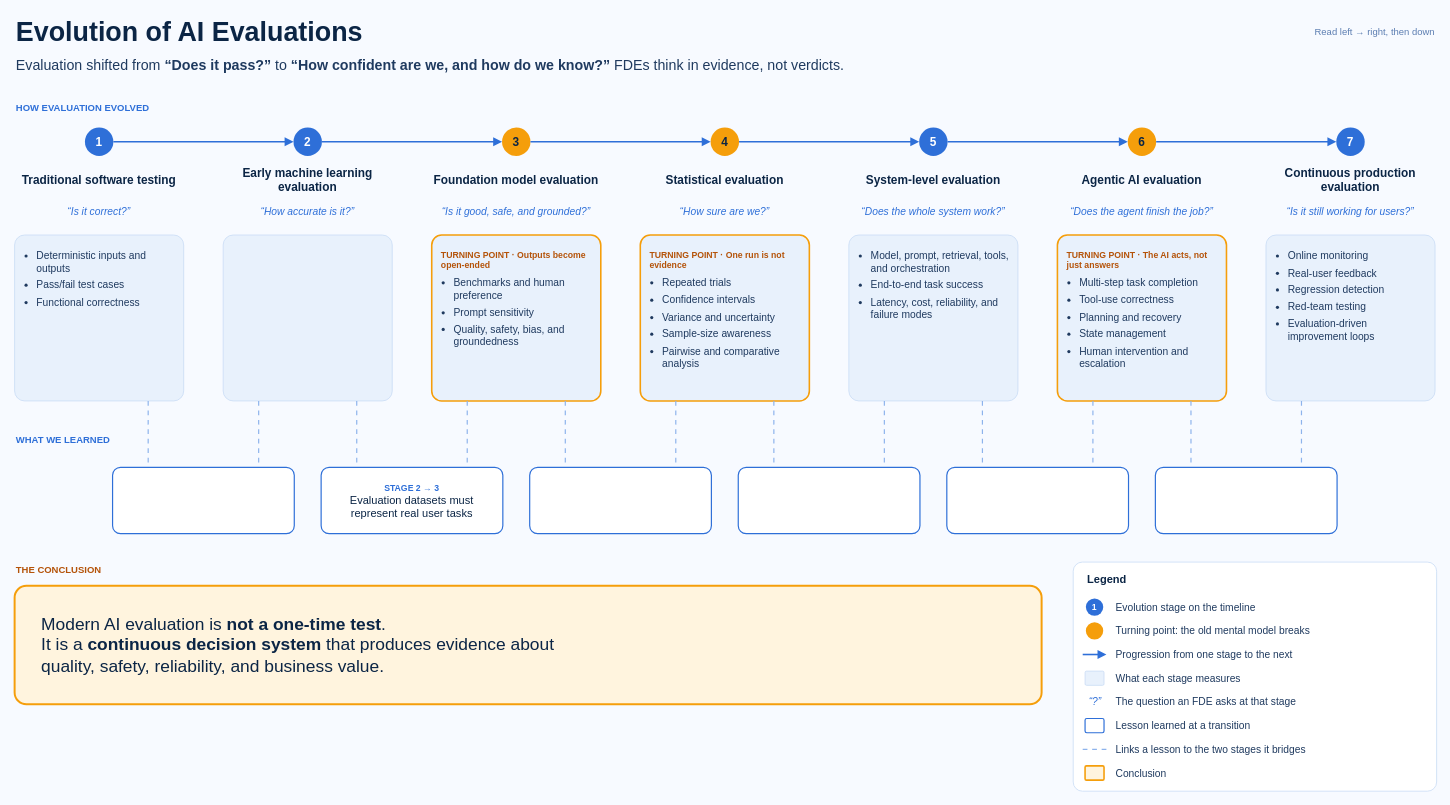
Image size: 1450x805. Some labels were removed from this diagram. The centre of each missing label's shape, as x and y in pixels:
Accuracy, precision, recall, and F1 Fixed test datasets Offline model comparison: the point at 307,317
STAGE 1 → 2 A single score hides important variation: the point at 203,500
STAGE 3 → 4 Repeated measurements are necessary for probabilistic systems: the point at 620,500
STAGE 4 → 5 Benchmark performance does not guarantee production success: the point at 828,500
STAGE 5 → 6 Component evaluation alone cannot validate an entire AI system: the point at 1037,500
STAGE 6 → 7 Evaluation must continue after deployment: the point at 1245,500
